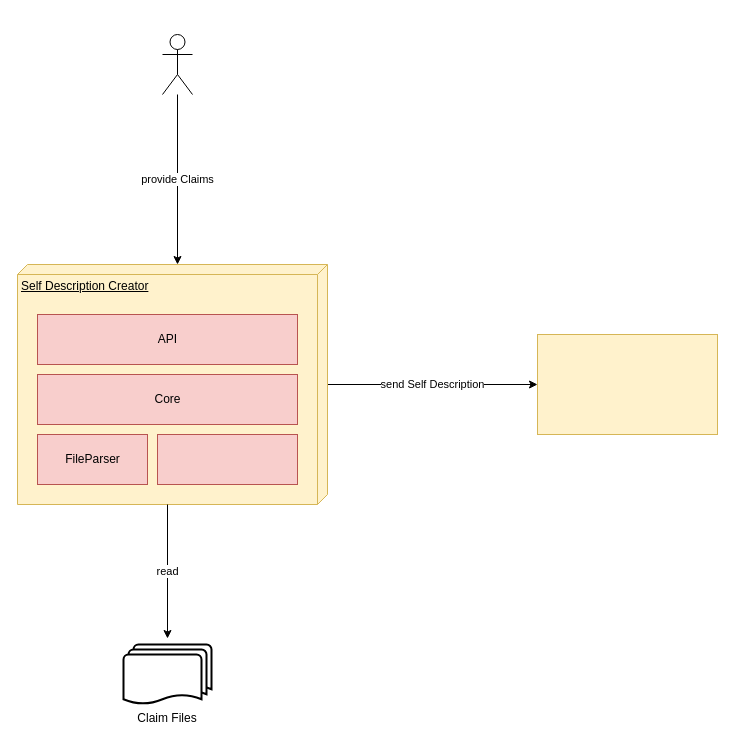
The diagram is 735 pixels wide and 743 high, and some of its shapes have lost their labels. Each missing label, with the centre of its shape:
Client: (177,64)
Federated Catalogue Client: (227,459)
XFSC Federated Catalogue: (627,384)
